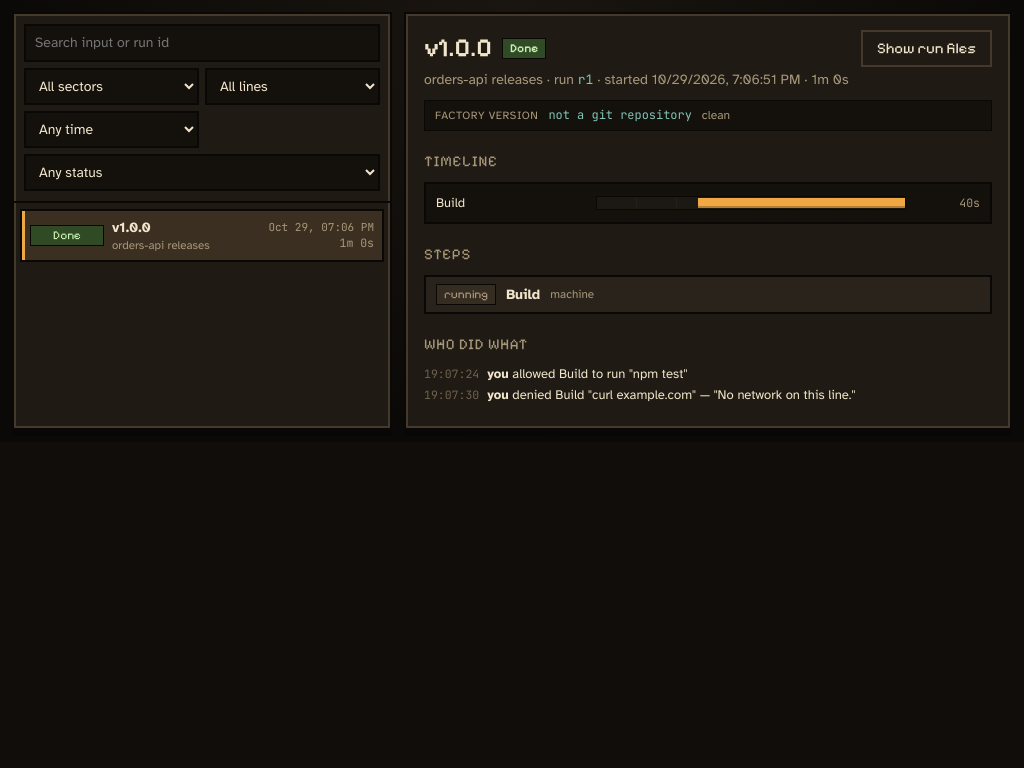
Scenario: The Ledger › tells what a machine asked to run, how long it waited, and what you answered
Click the button "Build": point(511, 203) [436,194,586,212]
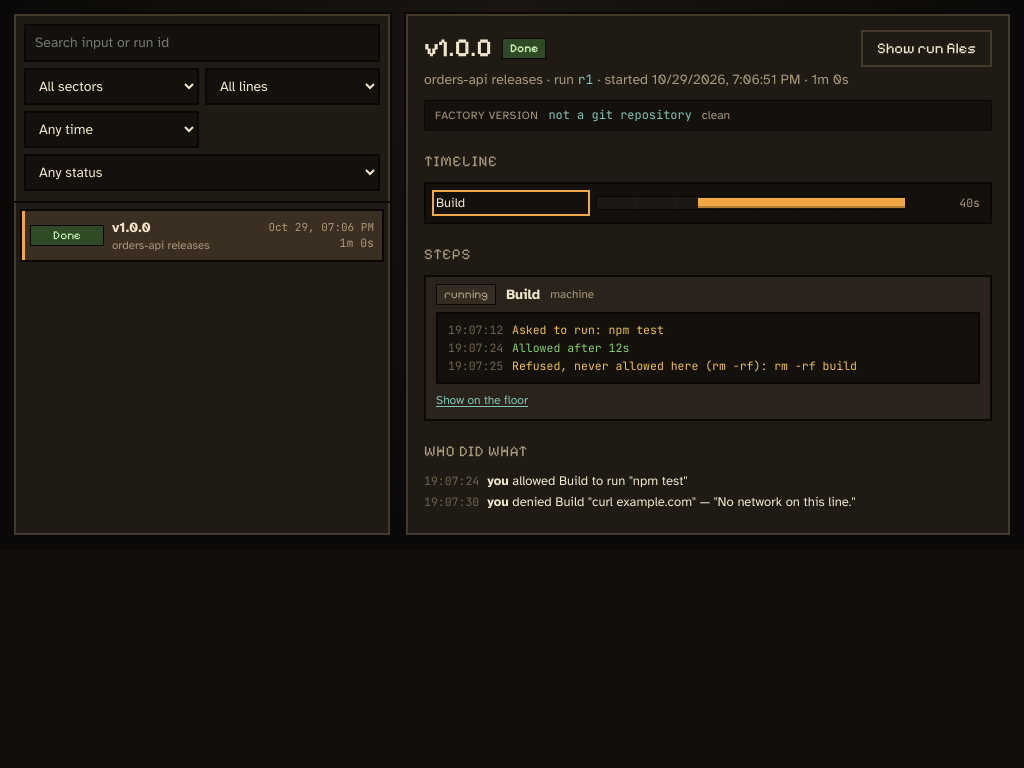
Expected: the text "Asked to run: npm test" is shown, [512,322,664,337]
Expected: the text "Allowed after 12s" is shown, [512,340,629,355]
Expected: the text "Refused, never allowed here (rm -rf): rm -rf build" is shown, [512,358,857,373]
